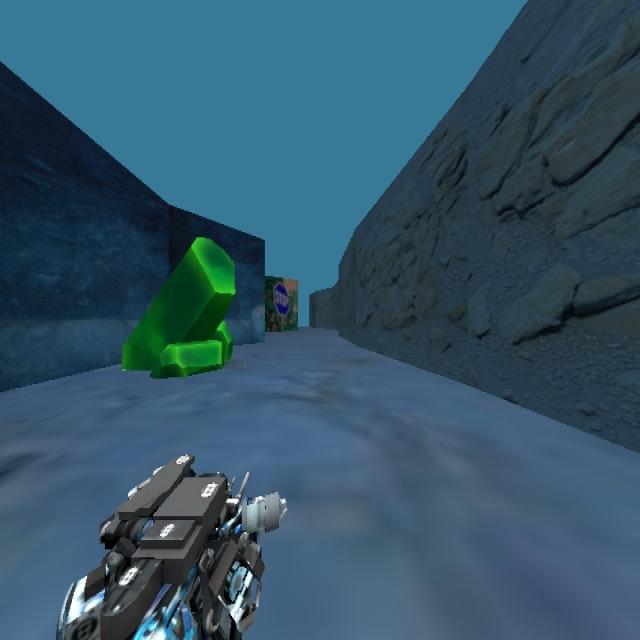Diamon: (120, 234, 236, 378)
Stop_Sign: (272, 282, 290, 318)
